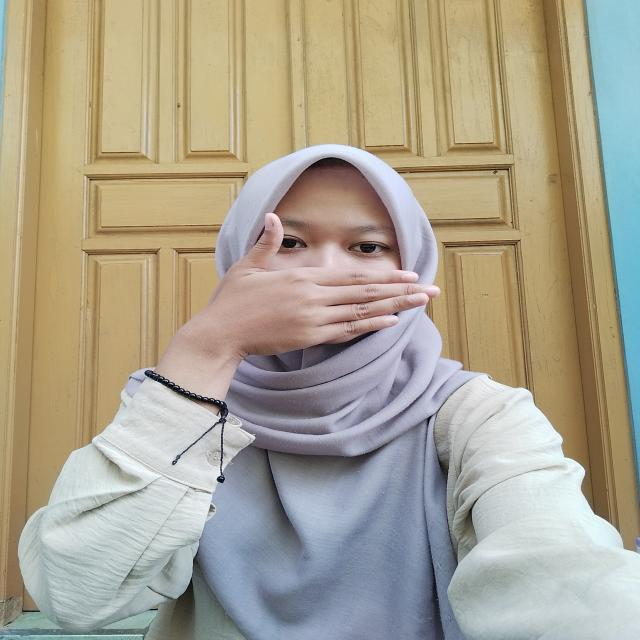buruk: (152, 212, 450, 379)
